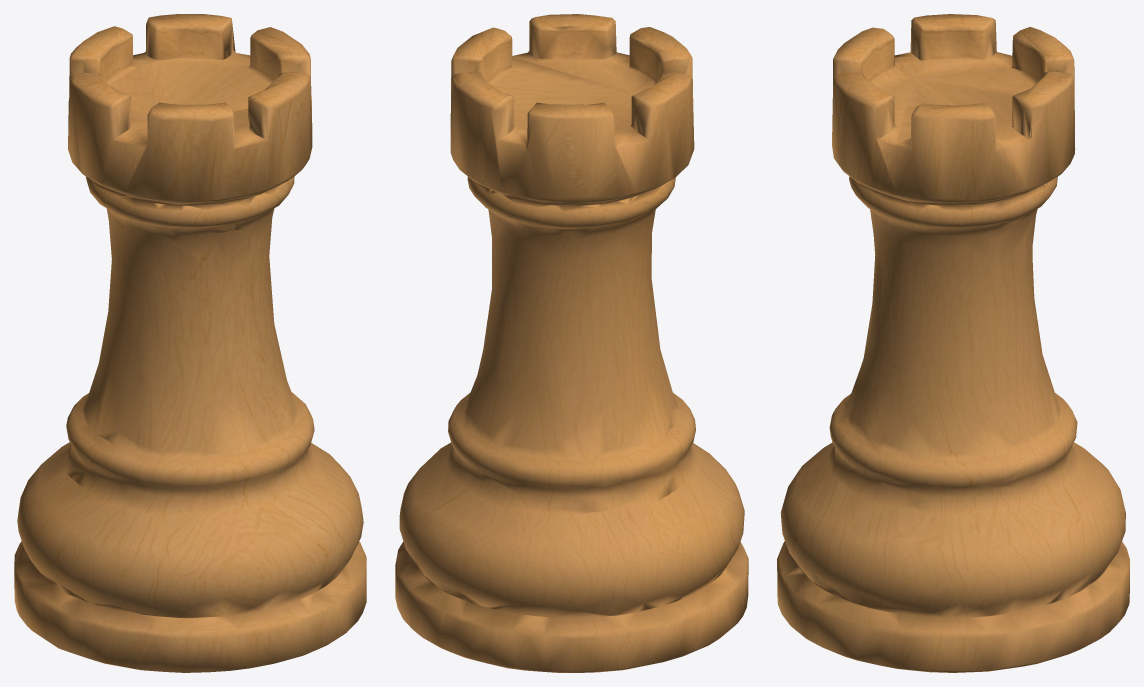
The model's file is torre.obj.
3 views of the same model, side by side, from view 1: azimuth 30°, elevation 25°; view 2: azimuth 150°, elevation 25°; view 3: azimuth 270°, elevation 25° (orthographic).
Visible parts, largest first — view 1: Meshy_AI_staunton_chess_rook_3_0926012017_image-to-3d-texture; view 2: Meshy_AI_staunton_chess_rook_3_0926012017_image-to-3d-texture; view 3: Meshy_AI_staunton_chess_rook_3_0926012017_image-to-3d-texture.
Boxes of the visible parts, <box> form: Meshy_AI_staunton_chess_rook_3_0926012017_image-to-3d-texture: <box>14,14,366,672</box>; Meshy_AI_staunton_chess_rook_3_0926012017_image-to-3d-texture: <box>395,14,748,672</box>; Meshy_AI_staunton_chess_rook_3_0926012017_image-to-3d-texture: <box>777,14,1129,672</box>.
Bounding box in the file's own units: 0.0446 × 0.075 × 0.0446.
1 material, 1 textured.
